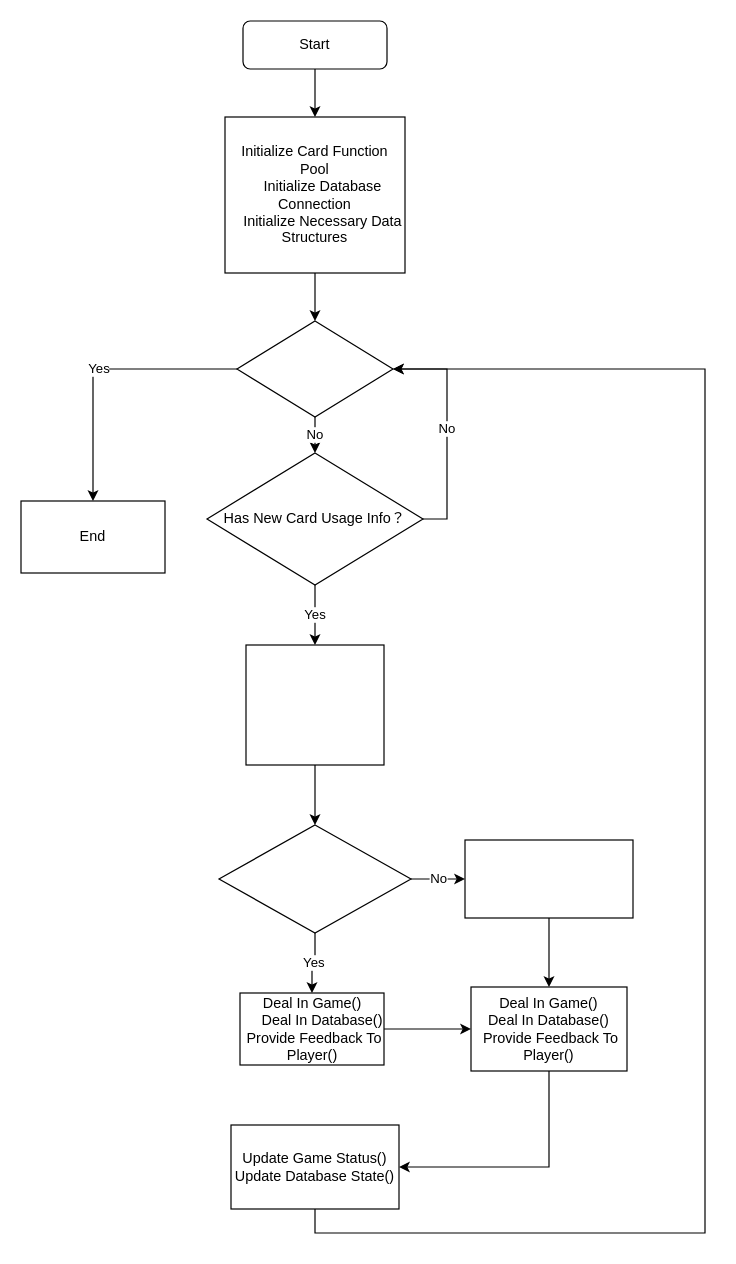
The diagram is 736 pixels wide and 1264 high, and some of its shapes have lost their labels. The shapes that lost their labels are listed below. From the top down, each one's centre as x and y in pixels, then its label:
(314,368): Check Game Over?
(314,704): Receive Raw Info() Clarify Data() Find Card Function() Find Hand Card()
(314,878): Matching Hand Card?
(548,878): Log Warning("No matching hand card found for the given card information.")
